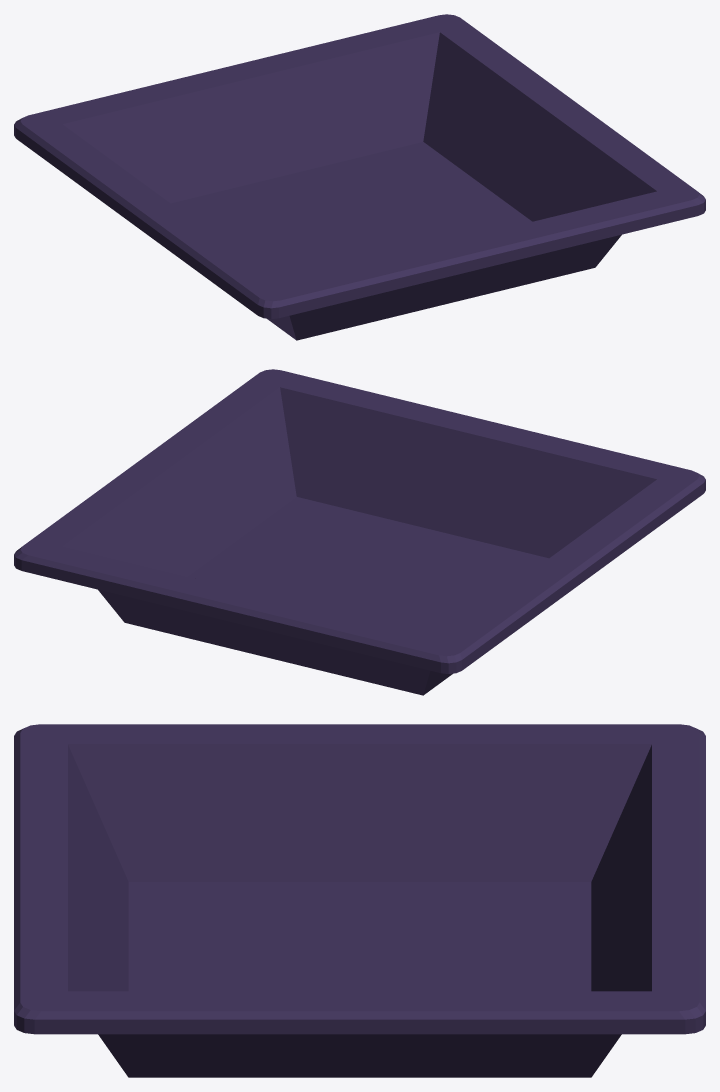
The model's file is popcorn_bath.fbx.
3 renders of one model, top to bottom at view 1: azimuth 30°, elevation 25°; view 2: azimuth 150°, elevation 25°; view 3: azimuth 270°, elevation 25°, orthographic. The views are drawn at different scales.
Visible parts, largest first — view 1: stove.001; view 2: stove.001; view 3: stove.001.
Part boxes in pixels (box(x1,y1,x2,y2)): stove.001: box(14, 14, 705, 340); stove.001: box(14, 369, 705, 695); stove.001: box(14, 724, 705, 1077).
Size of the model in its own units: 9.22 by 1.65 by 9.22.
